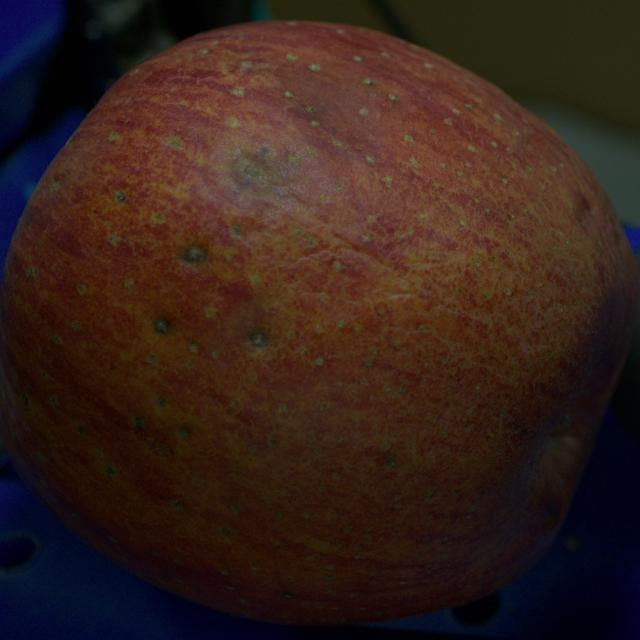apple: (0, 21, 638, 624)
bruise: (224, 148, 282, 191), (570, 182, 601, 228)
pest: (183, 245, 207, 264), (249, 331, 268, 348), (154, 318, 169, 334), (134, 416, 145, 429), (179, 428, 191, 439), (156, 444, 169, 454)
